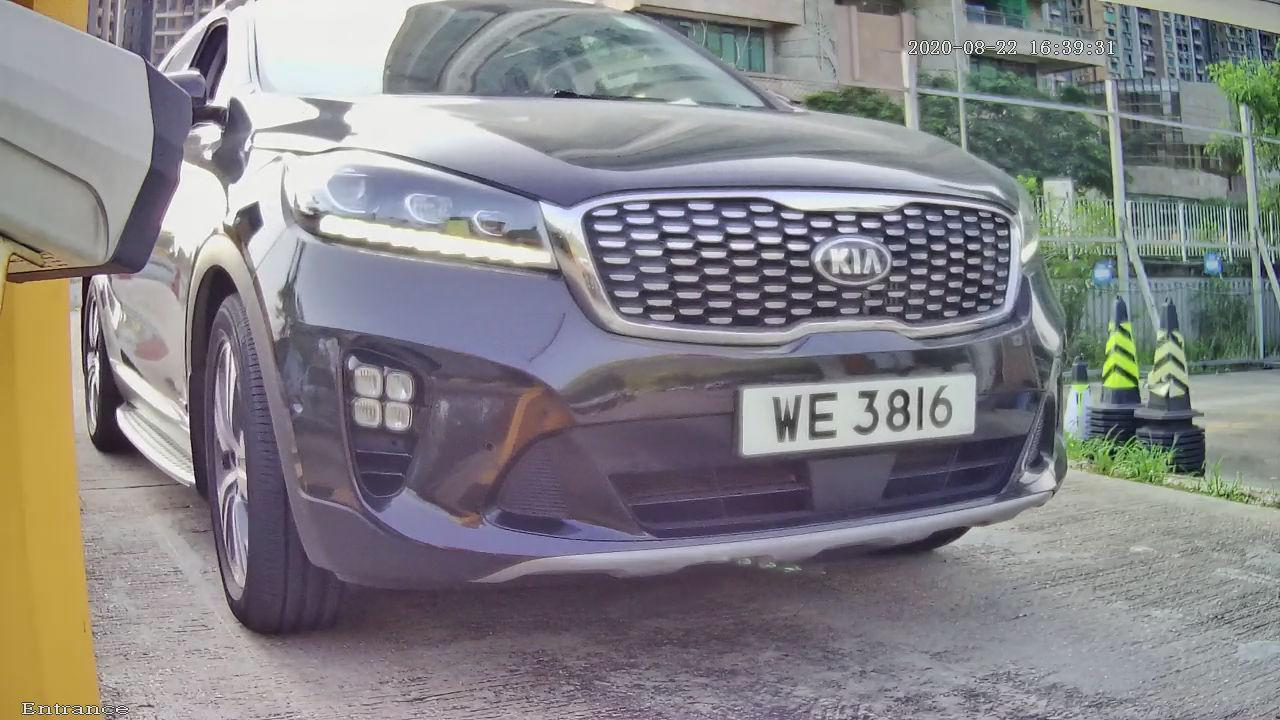Car: (46, 4, 1166, 643)
License Plate: (689, 334, 1037, 503)
